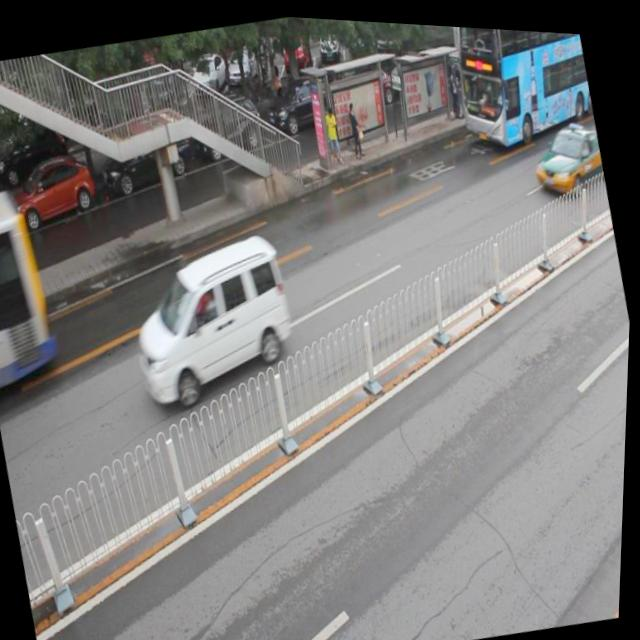car: (2, 148, 103, 238), (95, 120, 200, 206), (524, 107, 610, 196), (259, 66, 349, 148), (192, 88, 269, 163)
truck: (115, 217, 310, 415)
van: (438, 21, 599, 152), (0, 182, 71, 402)
